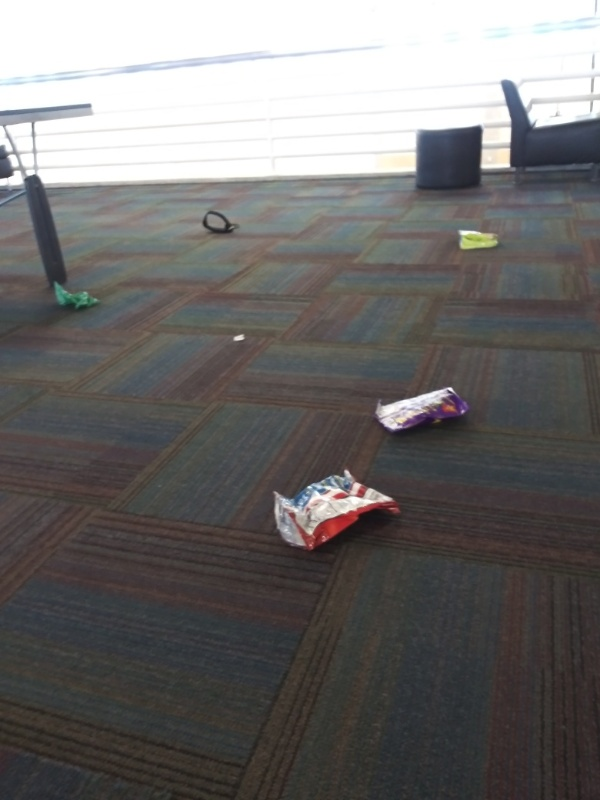bag: (264, 464, 410, 554), (364, 383, 474, 439), (452, 224, 503, 255)
